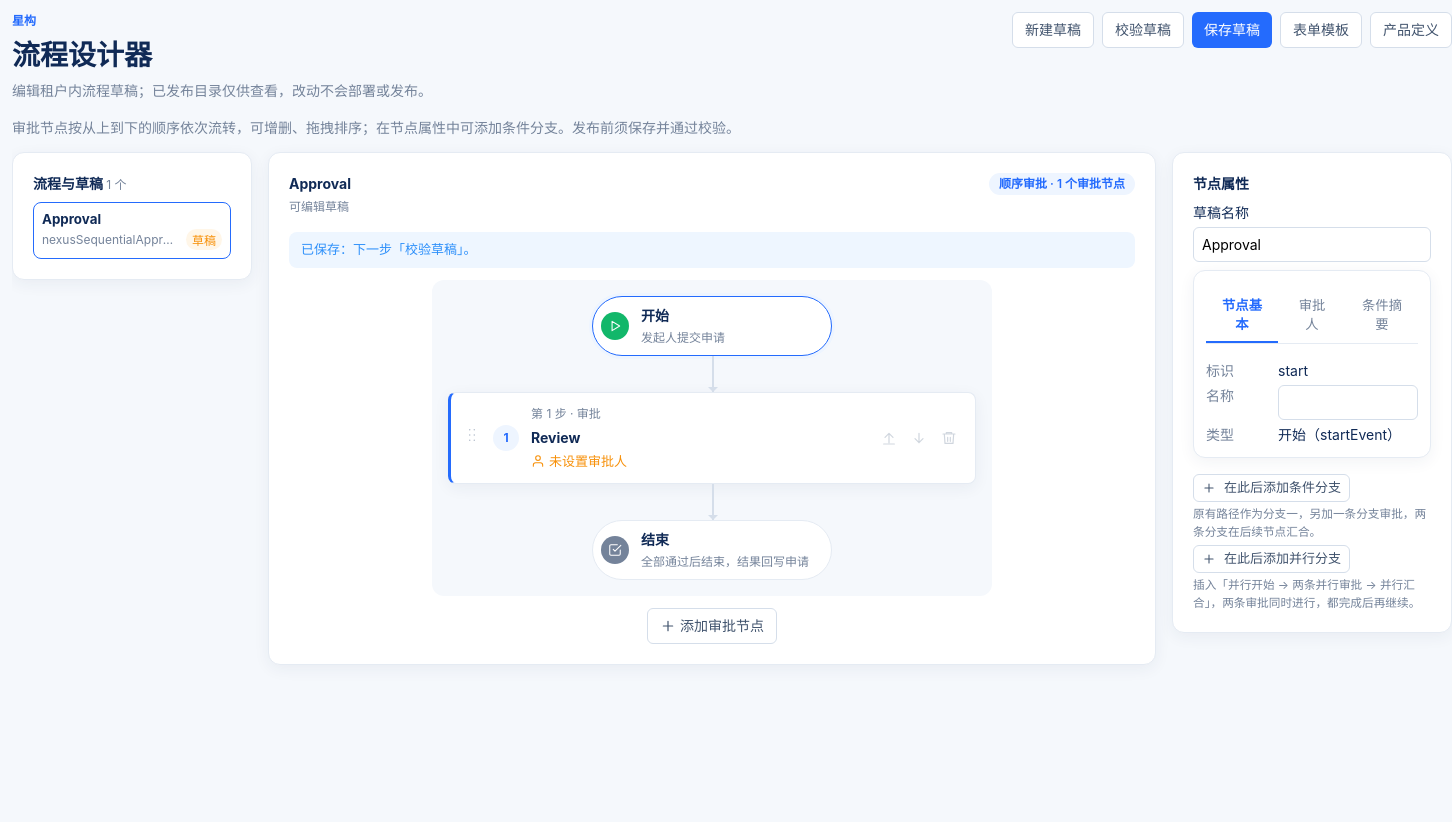
Test: process viewer › marks validation errors on the step they belong to
Click the button with test id "process-validate" at x=1143, y=30, box [1102,12,1184,48]
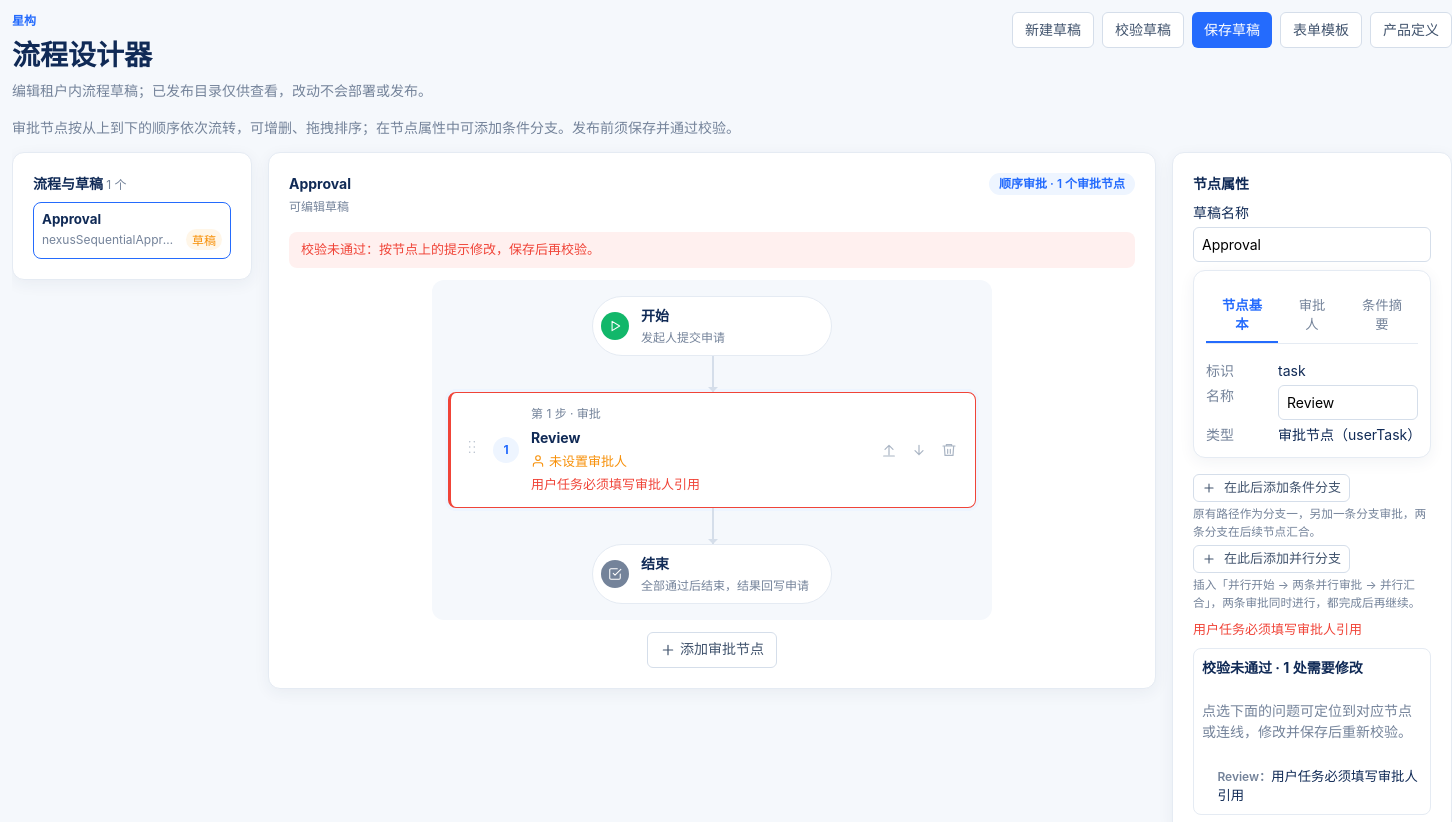
Check: the text with test id "step-error" below "校验未通过：按节点上的提示修改，保存后再校验。" reads "用户任务必须填写审批人引用", box [531,476,700,492]
